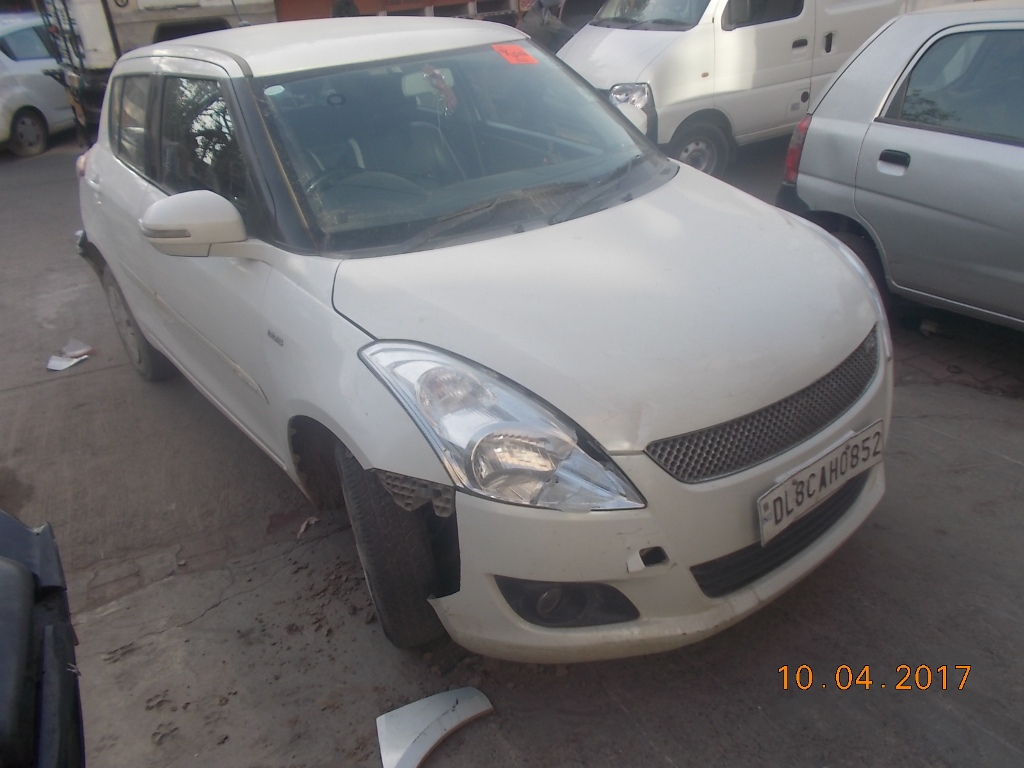Tear: (444, 490, 472, 596)
